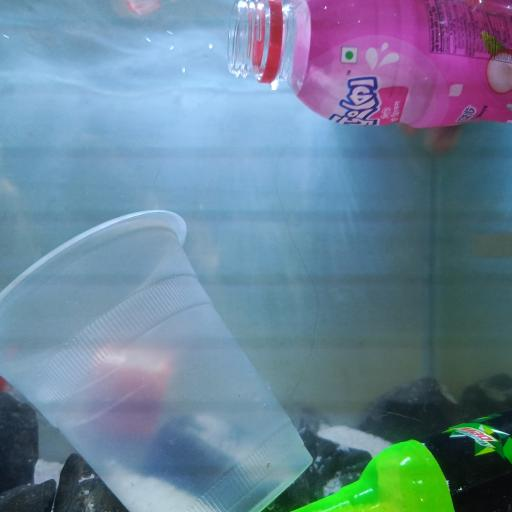plastic_bottle: (233, 0, 512, 128), (0, 340, 297, 434), (293, 406, 512, 512)
plastic_cup: (0, 205, 317, 512)
